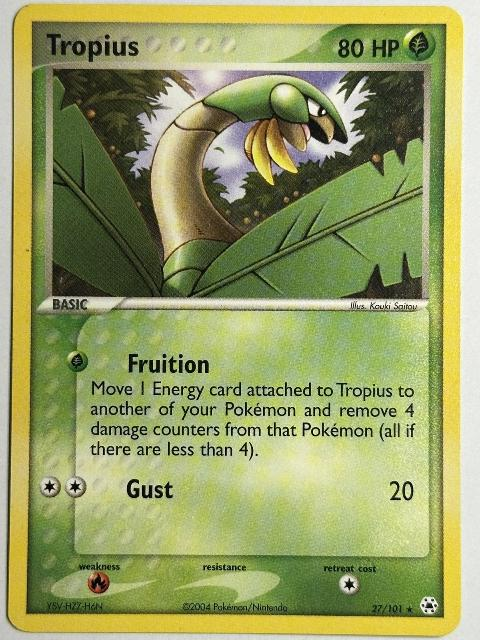Card: (3, 1, 469, 639)
Name: (42, 29, 142, 62)
